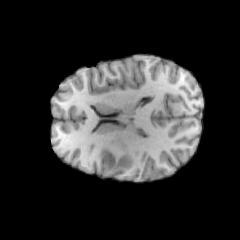glioma: (97, 140, 133, 174)
